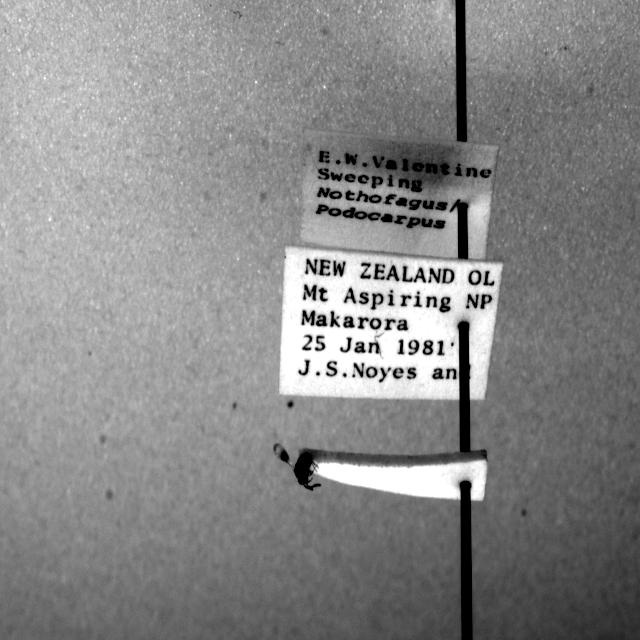typed_label: (279, 248, 502, 399), (300, 129, 499, 259)
